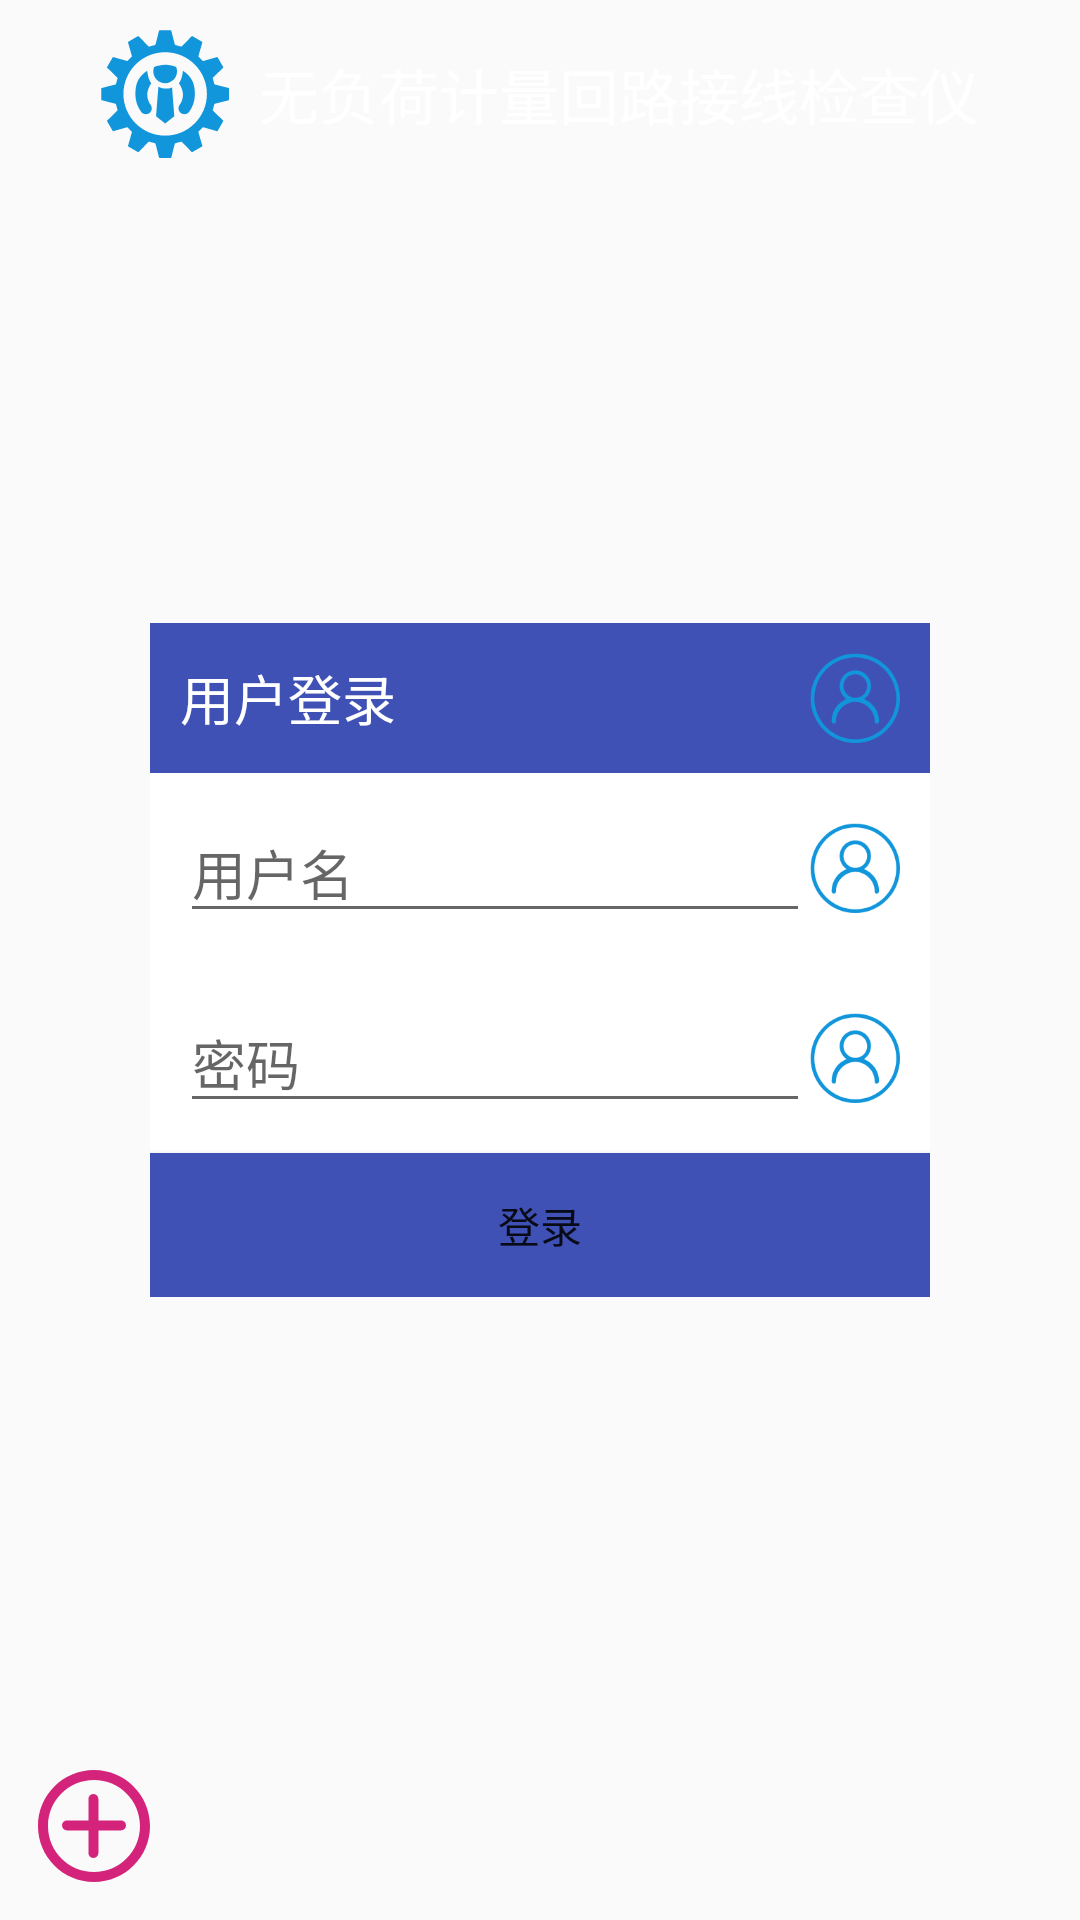

Where icons sit on this 1080 x 1920 app screen, as (x1, y1, x2, y2):
user: (811, 654, 900, 743), (810, 823, 900, 913), (810, 1013, 900, 1103)
